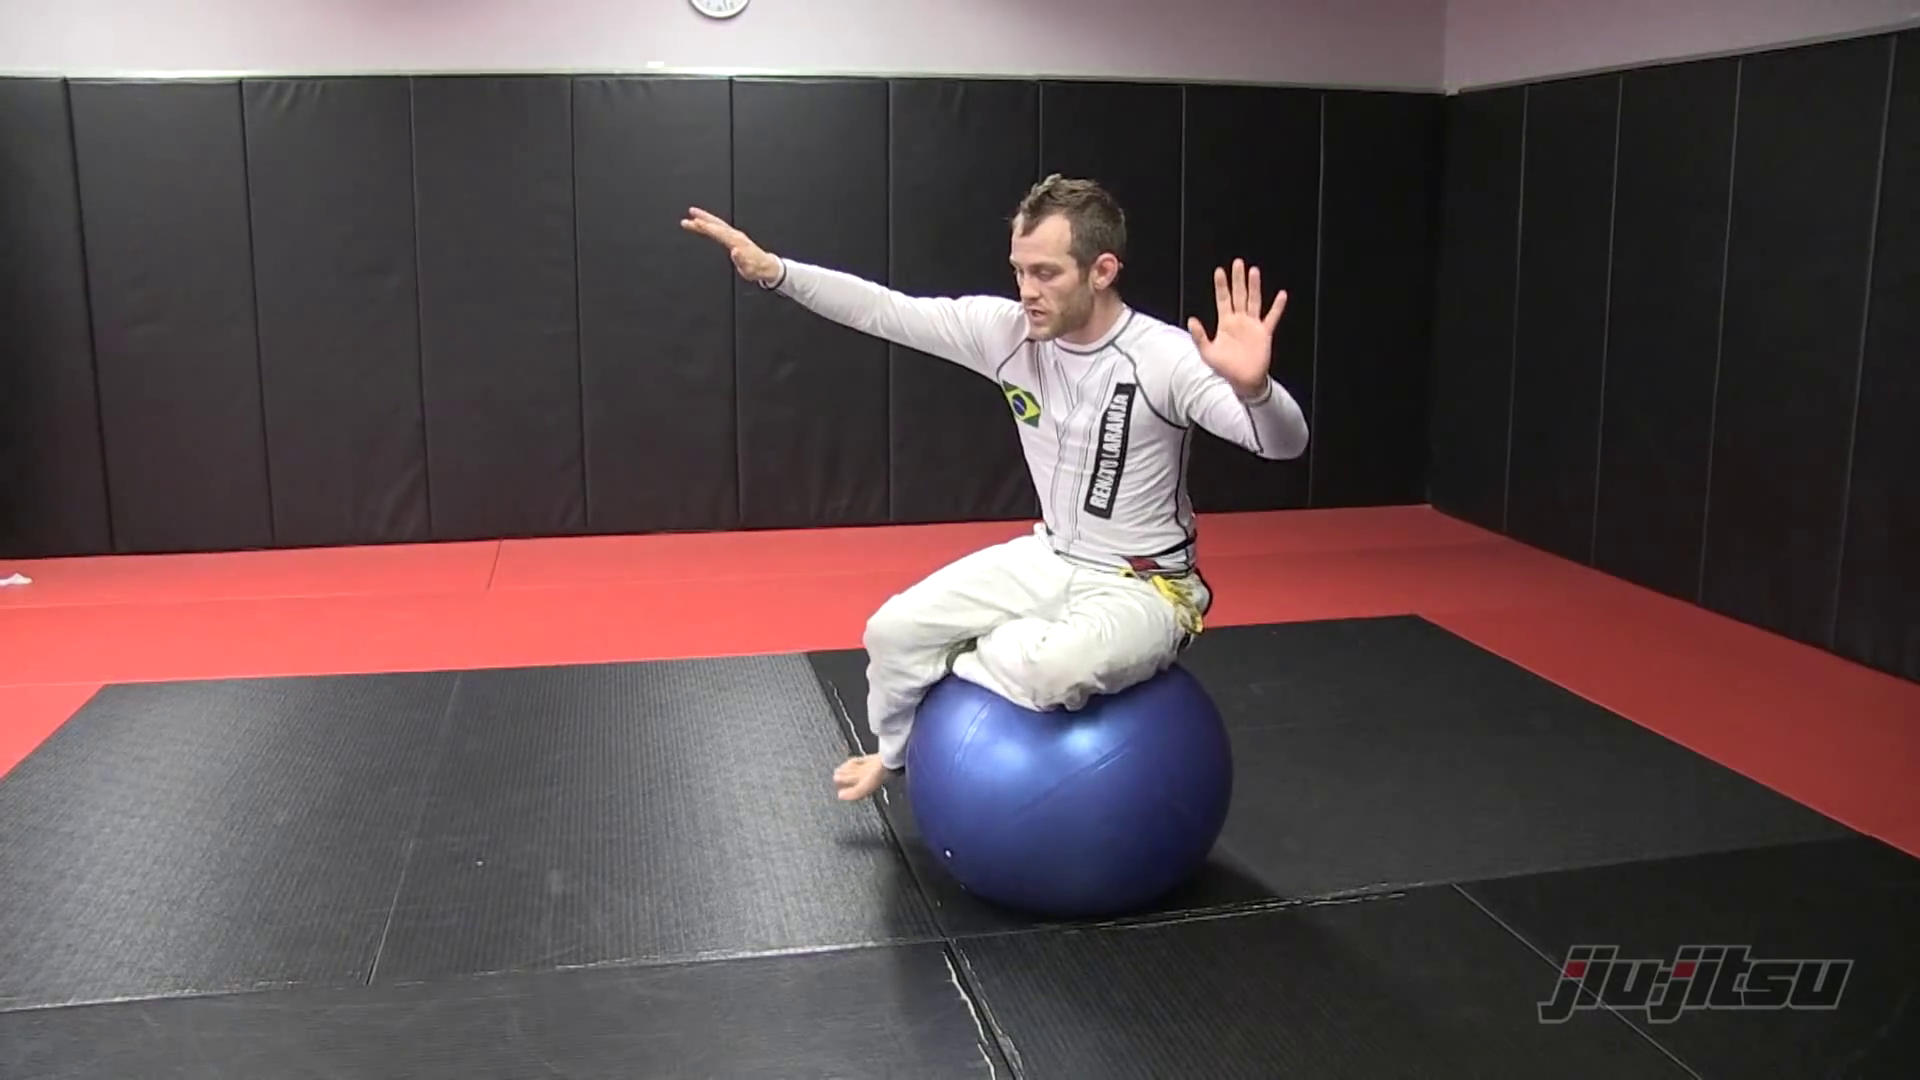yogaball: (881, 626, 1284, 938)
